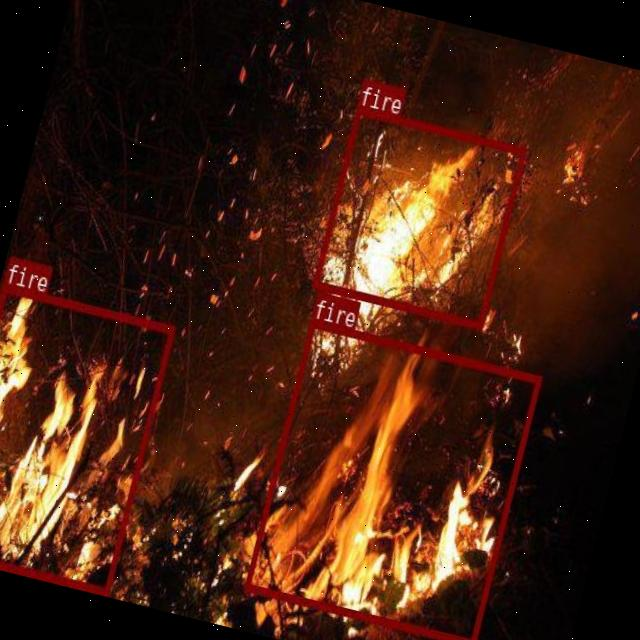fire: (244, 319, 541, 640), (0, 283, 174, 594), (311, 105, 526, 328)
